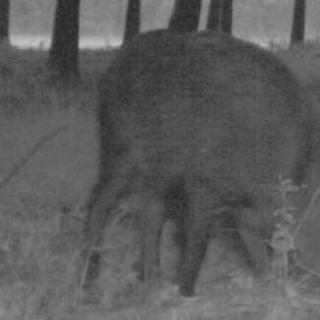Pig: (81, 22, 320, 320)
